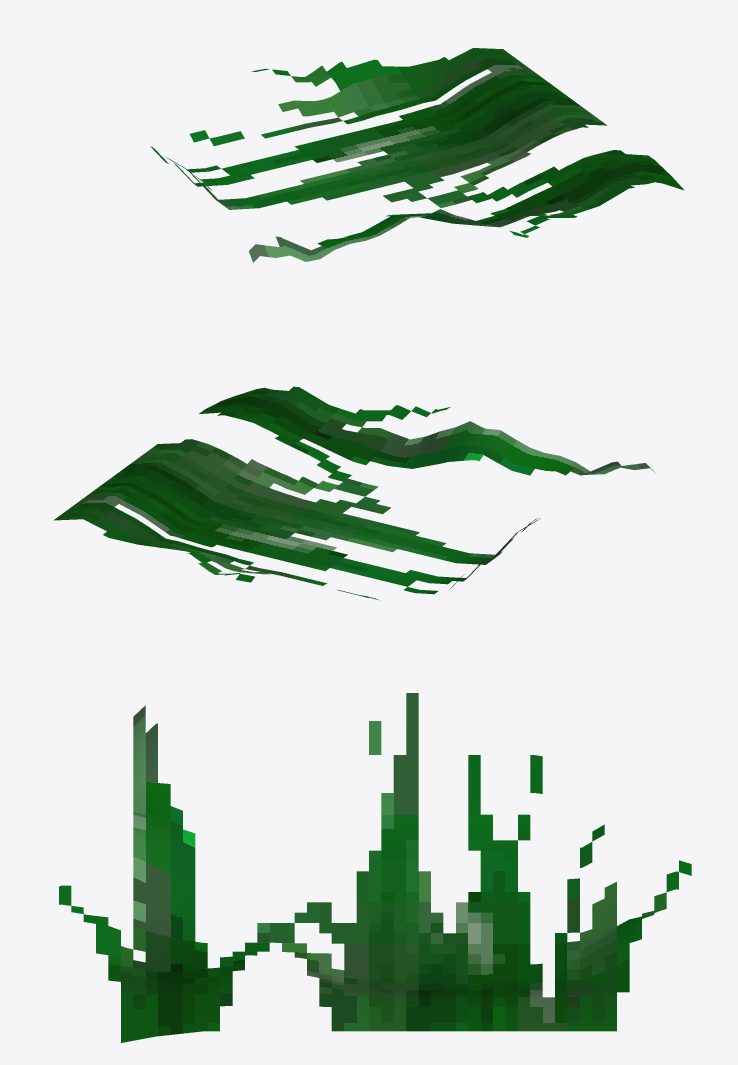
The model's file is ground.dae.
The picture shows the model from 3 angles, top to bottom: view 1: azimuth 30°, elevation 25°; view 2: azimuth 150°, elevation 25°; view 3: azimuth 270°, elevation 25°; orthographic projection. The views are drawn at different scales.
Visible parts, largest first — view 1: pPlane1; view 2: pPlane1; view 3: pPlane1.
Boxes of the visible parts, bbox=[...] form: pPlane1: bbox=[150, 48, 684, 262]; pPlane1: bbox=[53, 386, 655, 599]; pPlane1: bbox=[59, 693, 691, 1042].
Bounding box in the file's own units: 275 × 40.97 × 275.
